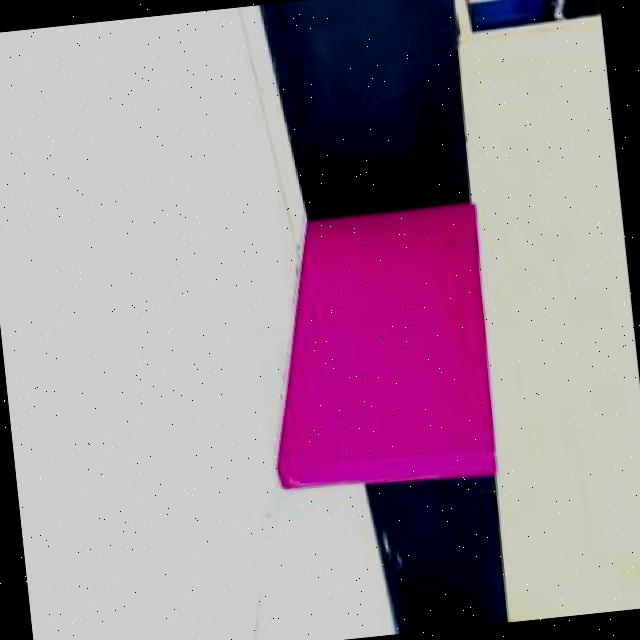xparking: (304, 204, 494, 488)
